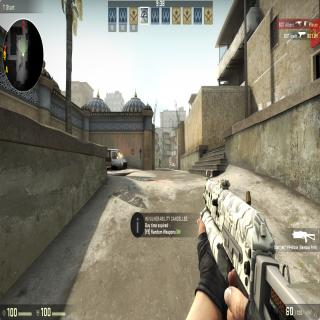CT-Body: (158, 157, 160, 170), (162, 158, 164, 169)
